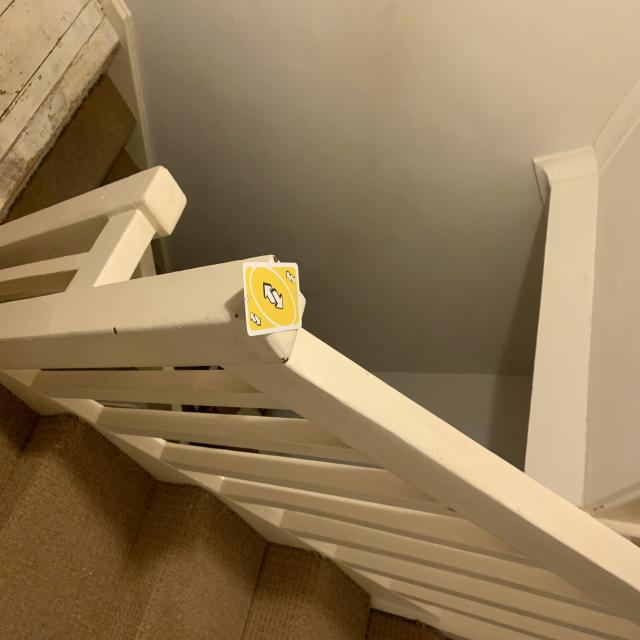lyellowrevers-20: (284, 266, 296, 286)
